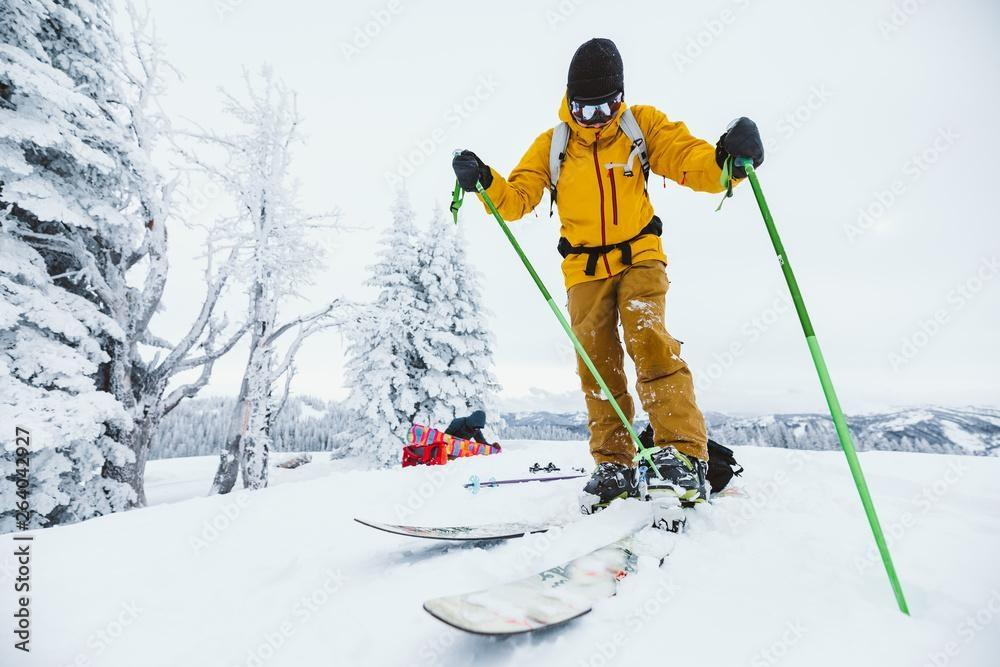Skis: (301, 456, 815, 646)
